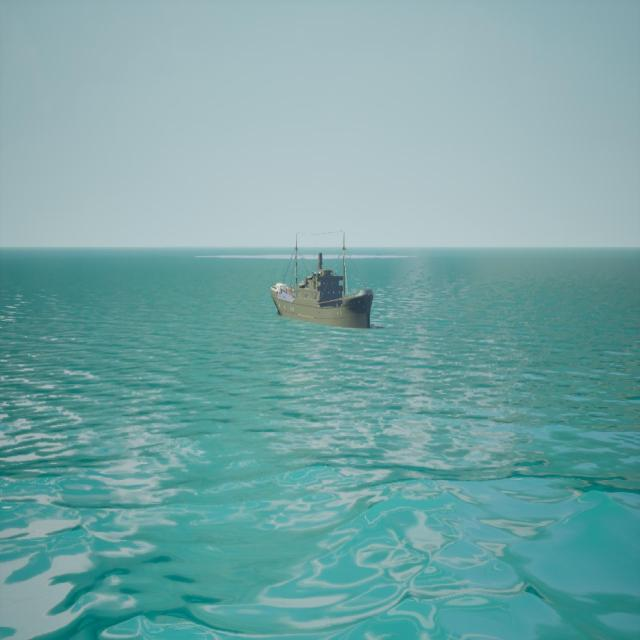fishing ship: (271, 233, 376, 333)
